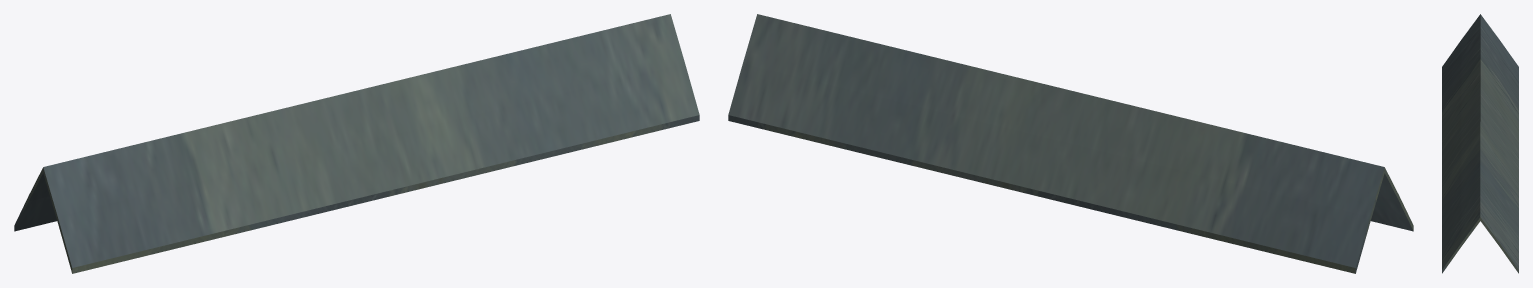
File: CM_SlateRoofKit01_Ridge2m_Secondary.fbx
3 renders of one model, left to right at view 1: azimuth 30°, elevation 25°; view 2: azimuth 150°, elevation 25°; view 3: azimuth 270°, elevation 25°, orthographic. The views are drawn at different scales.
Parts seen in each view (by area): view 1: CM_SlateRoofKit01_Ridge2m_Secondary_Slate; view 2: CM_SlateRoofKit01_Ridge2m_Secondary_Slate; view 3: CM_SlateRoofKit01_Ridge2m_Secondary_Slate.
Boxes of the visible parts, left/top/right/bottom form: CM_SlateRoofKit01_Ridge2m_Secondary_Slate: left=14, top=14, right=699, bottom=273; CM_SlateRoofKit01_Ridge2m_Secondary_Slate: left=728, top=14, right=1413, bottom=273; CM_SlateRoofKit01_Ridge2m_Secondary_Slate: left=1442, top=14, right=1518, bottom=273.
Size of the model in its own units: 2 by 0.261 by 0.32.
